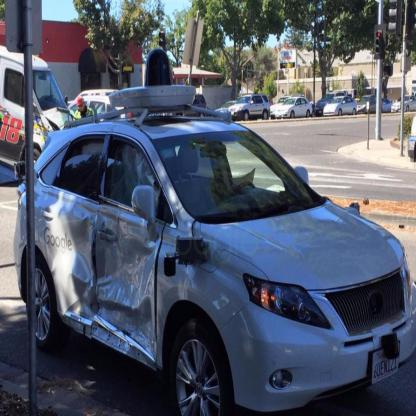door: (41, 186, 164, 363)
front_bumper: (219, 278, 416, 412)
headlamp: (244, 274, 334, 331)
hood: (194, 197, 404, 291)
